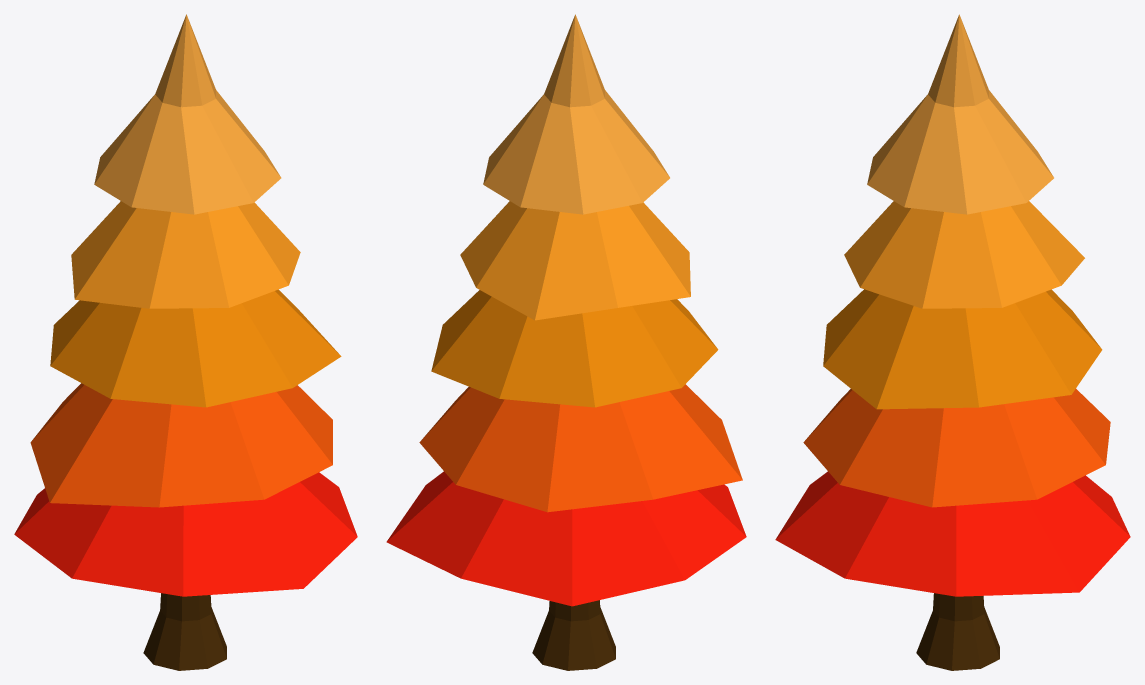
Rendered from tree_0.fbx.
The picture shows the model from 3 angles, left to right: view 1: azimuth 30°, elevation 25°; view 2: azimuth 150°, elevation 25°; view 3: azimuth 270°, elevation 25°; orthographic projection.
Parts seen in each view (by area): view 1: Pine04_001_0__22_; view 2: Pine04_001_0__22_; view 3: Pine04_001_0__22_.
Boxes of the visible parts, box(x1,y1,x2,y2) form: Pine04_001_0__22_: box(14, 14, 357, 670); Pine04_001_0__22_: box(386, 14, 746, 670); Pine04_001_0__22_: box(775, 14, 1130, 670).
Size of the model in its own units: 3406 by 6860 by 3457.
1 material, 1 textured.
